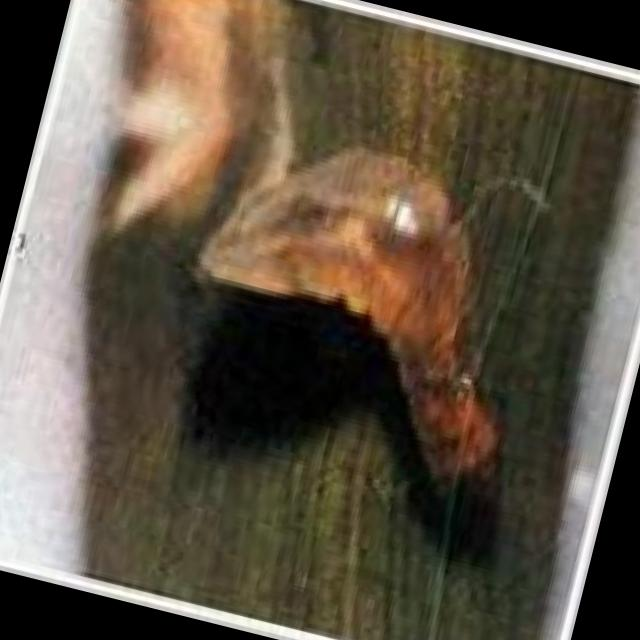whorl-maggot: (195, 148, 507, 504)
